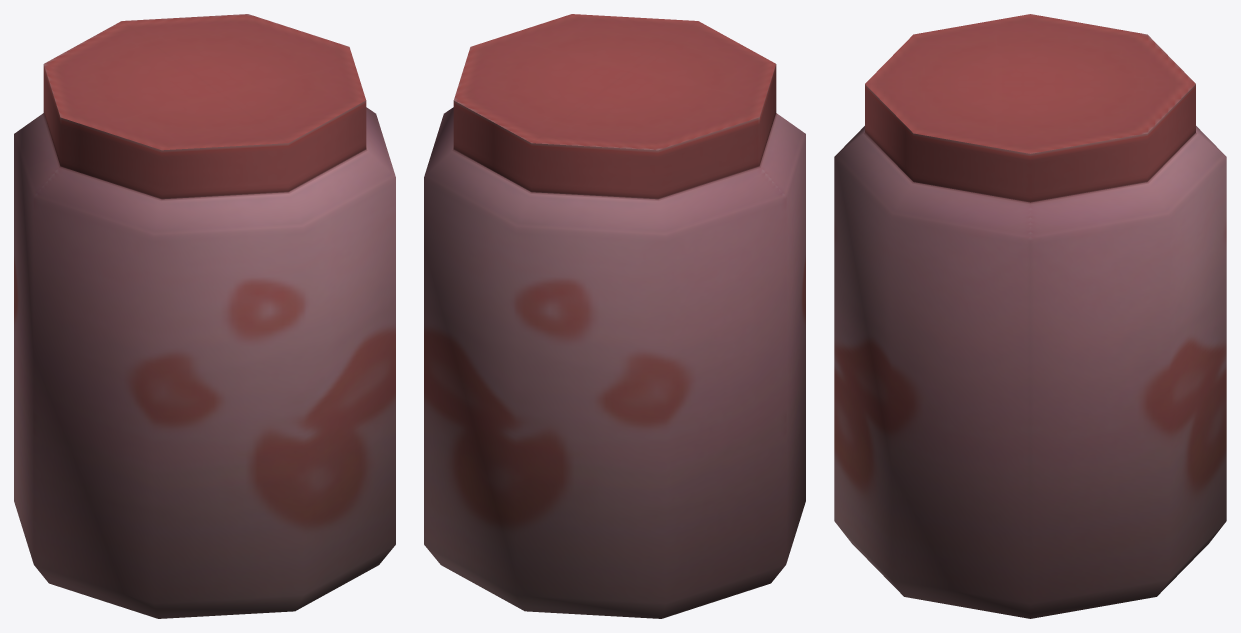
Rendered from XiuXiShi_01_pingzi_01.FBX.
3 renders of one model, left to right at view 1: azimuth 30°, elevation 25°; view 2: azimuth 150°, elevation 25°; view 3: azimuth 270°, elevation 25°, orthographic.
Visible parts, largest first — view 1: XiuXiShi_pingzi_01; view 2: XiuXiShi_pingzi_01; view 3: XiuXiShi_pingzi_01.
Part boxes in pixels (x1=…): XiuXiShi_pingzi_01: x1=14, y1=14, x2=395, y2=618; XiuXiShi_pingzi_01: x1=424, y1=14, x2=805, y2=618; XiuXiShi_pingzi_01: x1=834, y1=14, x2=1226, y2=618.
Size of the model in its own units: 102 by 132 by 102.
